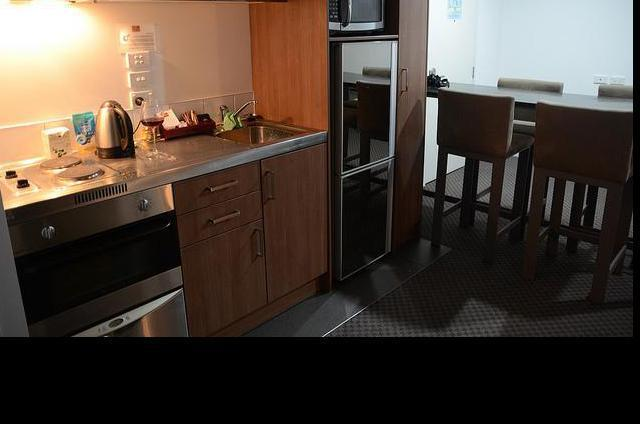Lavaplatos: (204, 95, 312, 163)
